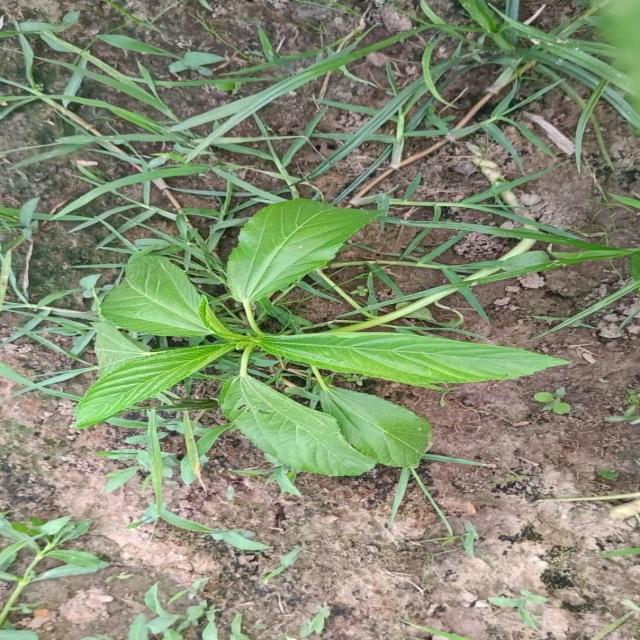plant: (76, 199, 564, 479)
